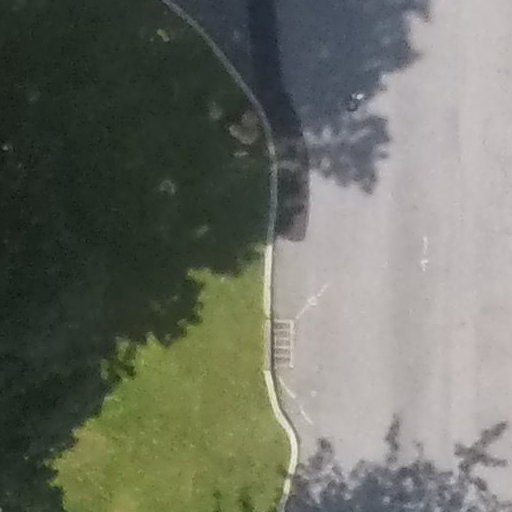gutter: (261, 309, 296, 376)
street: (198, 3, 512, 512)
